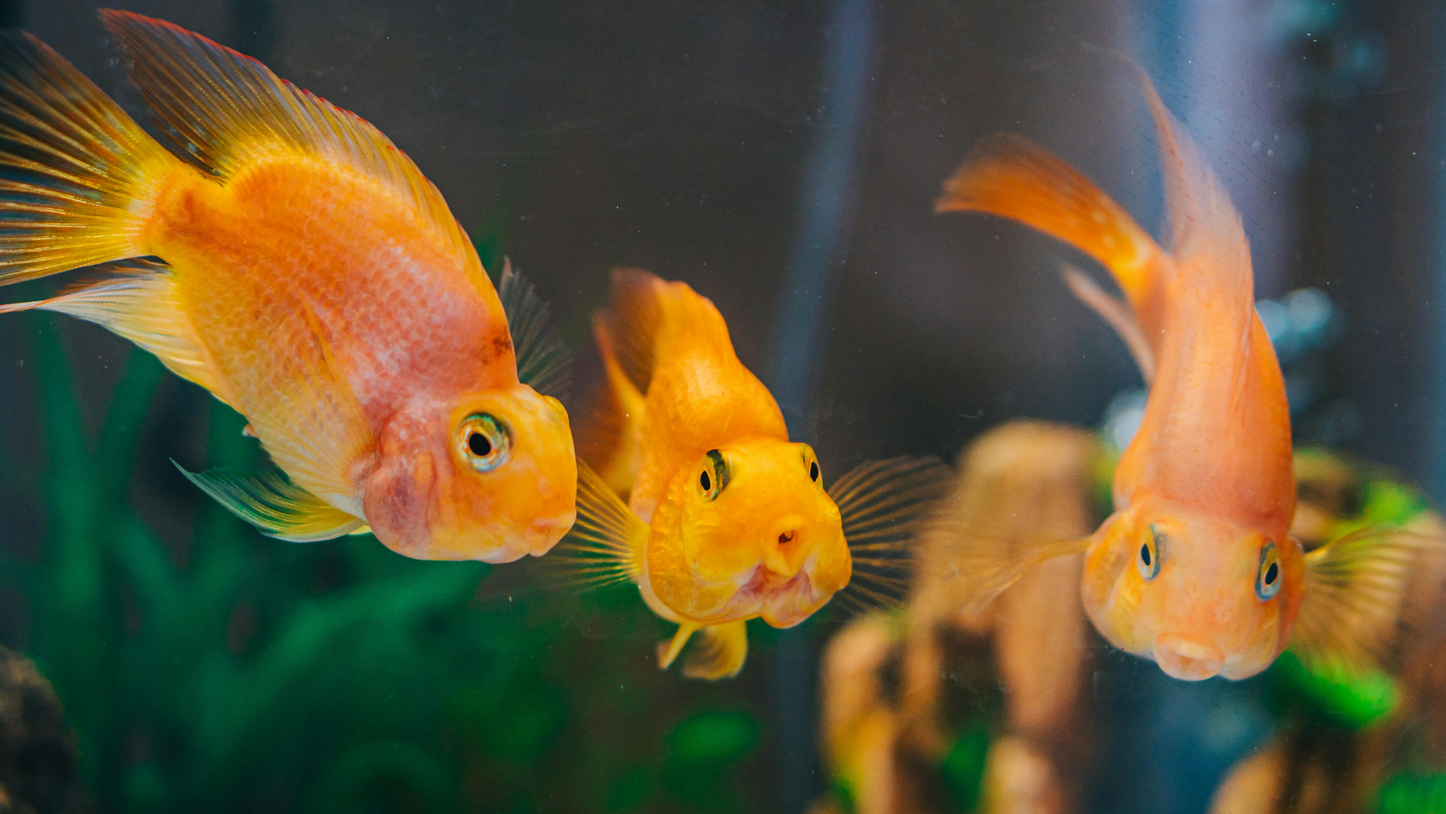fishes: (585, 266, 851, 634)
